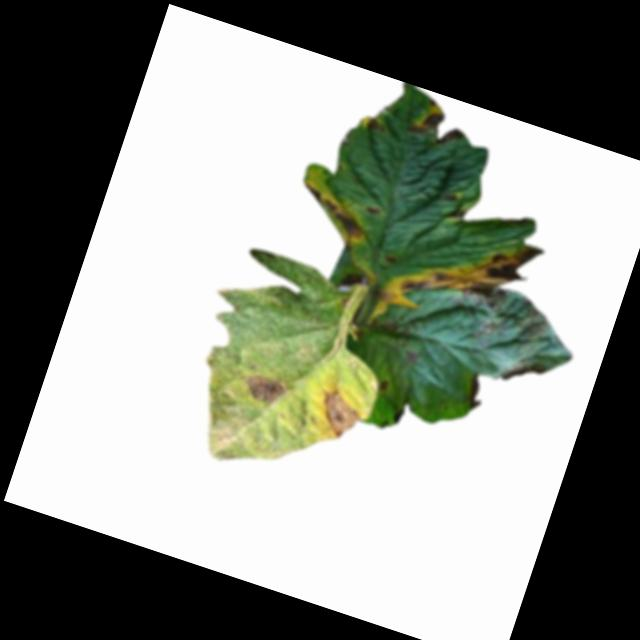Early_blight: (375, 204, 545, 346), (452, 277, 554, 356), (291, 183, 373, 243), (404, 104, 470, 155), (312, 385, 367, 443), (500, 355, 548, 393), (243, 372, 288, 408), (461, 373, 491, 412), (363, 115, 383, 136), (366, 206, 382, 219), (377, 378, 389, 393)
